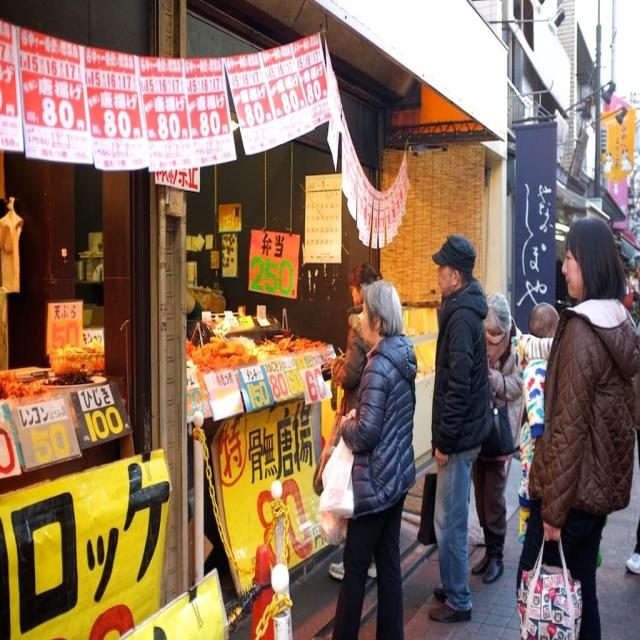body: (510, 213, 640, 639), (319, 277, 419, 639), (426, 232, 490, 628), (471, 289, 527, 588), (327, 260, 384, 457), (515, 301, 561, 545), (625, 442, 640, 612), (619, 250, 639, 314)
